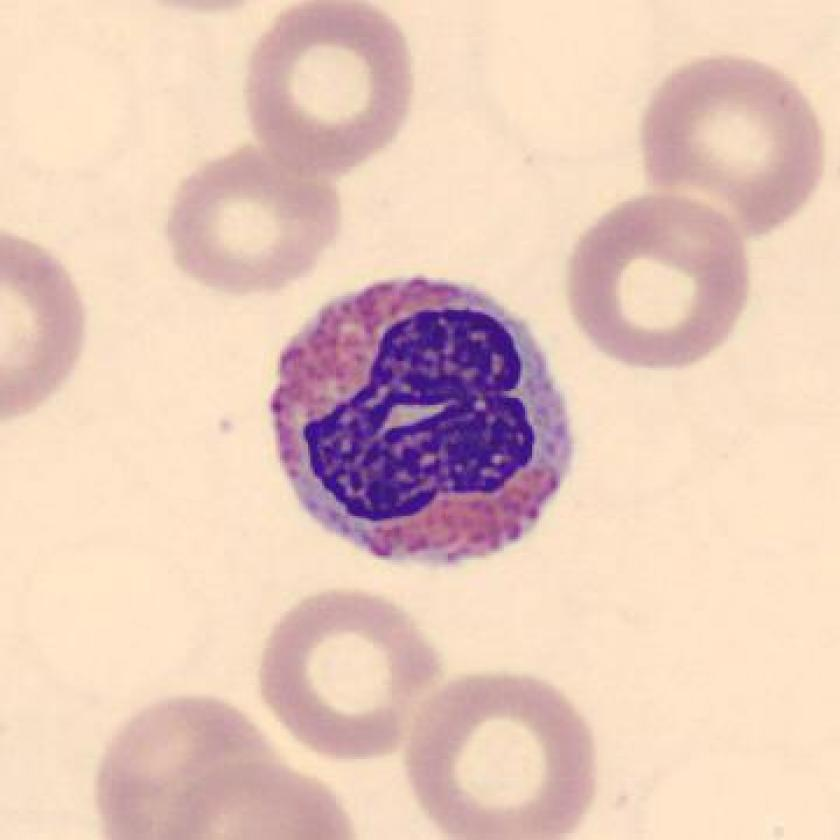eosinophil: (255, 255, 589, 582)
